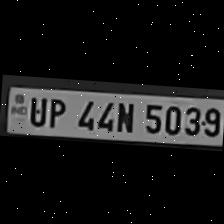0: (162, 100, 182, 134)
3: (180, 101, 201, 135)
4: (71, 94, 97, 130), (94, 96, 116, 131)
5: (139, 98, 164, 134)
9: (200, 103, 222, 137)
N: (113, 97, 137, 133)
P: (44, 94, 68, 128)
U: (24, 93, 46, 126)
